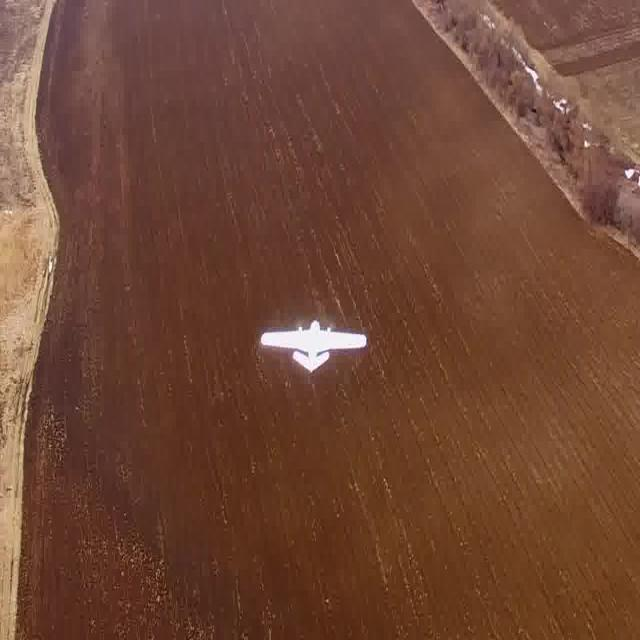iha: (289, 344, 337, 359)
